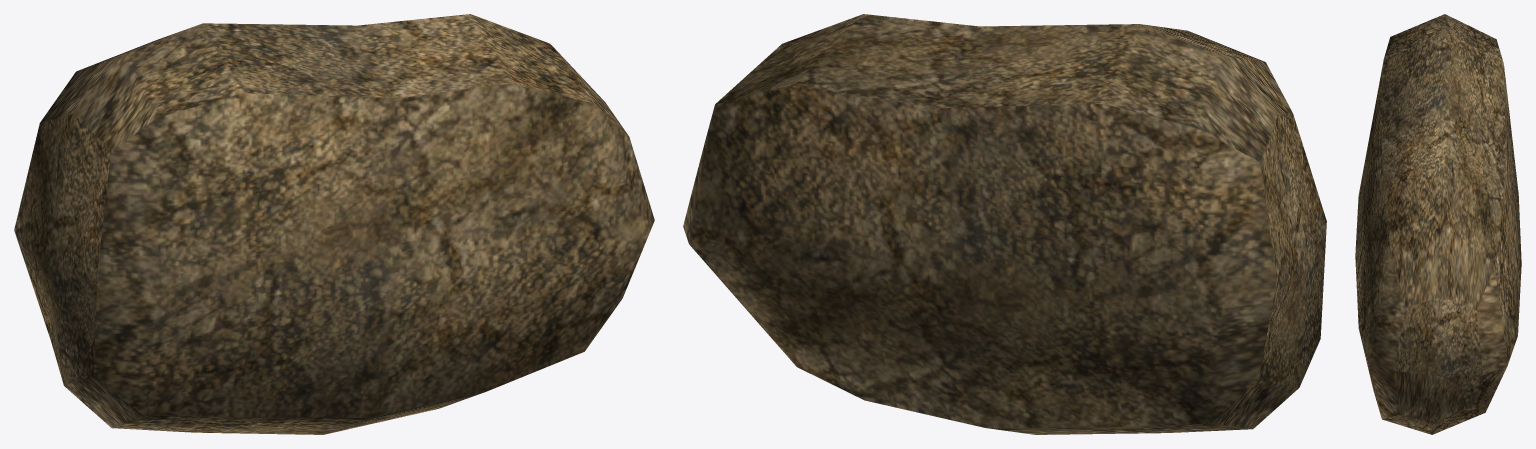
File: CH09_SMAUG_PLAYSURFACE_LONELYMOUNTAIN_LM_PLAYSURFACE07.fbx
The picture shows the model from 3 angles, left to right: view 1: azimuth 30°, elevation 25°; view 2: azimuth 150°, elevation 25°; view 3: azimuth 270°, elevation 25°; orthographic projection. The views are drawn at different scales.
Visible parts, largest first — view 1: CH09_SMAUG_PLAYSURFACE_LONELYMOUNTAIN_LM_PLAYSURFACE07; view 2: CH09_SMAUG_PLAYSURFACE_LONELYMOUNTAIN_LM_PLAYSURFACE07; view 3: CH09_SMAUG_PLAYSURFACE_LONELYMOUNTAIN_LM_PLAYSURFACE07.
Part boxes in pixels (x1,y1,x2,y2): CH09_SMAUG_PLAYSURFACE_LONELYMOUNTAIN_LM_PLAYSURFACE07: (14,14,654,434); CH09_SMAUG_PLAYSURFACE_LONELYMOUNTAIN_LM_PLAYSURFACE07: (683,14,1326,434); CH09_SMAUG_PLAYSURFACE_LONELYMOUNTAIN_LM_PLAYSURFACE07: (1355,14,1521,434).
Size of the model in its own units: 14900 by 10578 by 5173.
1 material, 1 textured.
